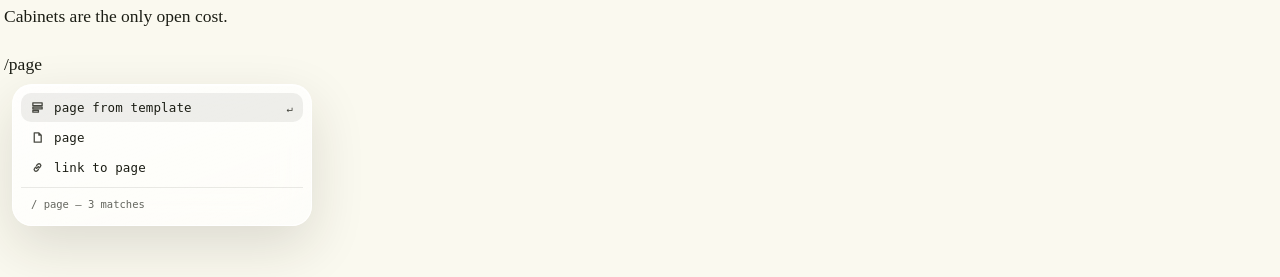
Test: `/ nested page` leaves a page-link block where the `/` line was (KAN-122) › swaps the `/` line for a page-link block at the same index, stamps the page nested-under-this-one, and opens it with the title focused (KAN-464)
The width and height of the screenshot is (1280, 277).
Check: the list named "blocks" is shown, box 21,93 -> 303,182
What coordinates should you click on to do the following:
click the option "page"
I would click on:
 (58, 138)
Its box is 31,130 -> 85,145.
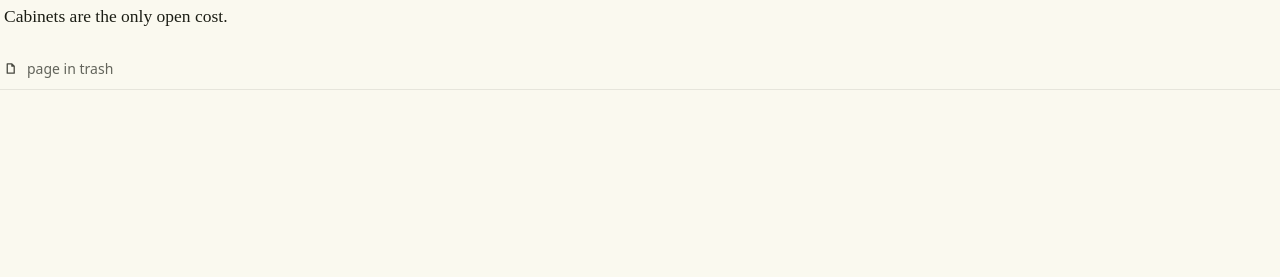
Check: the element with id "block-b-slash" is gone
